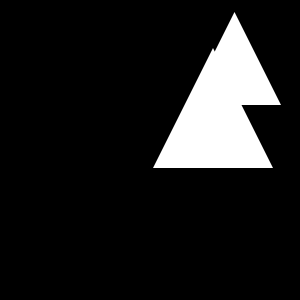triangle: (153, 48, 273, 168), (188, 12, 281, 105)
